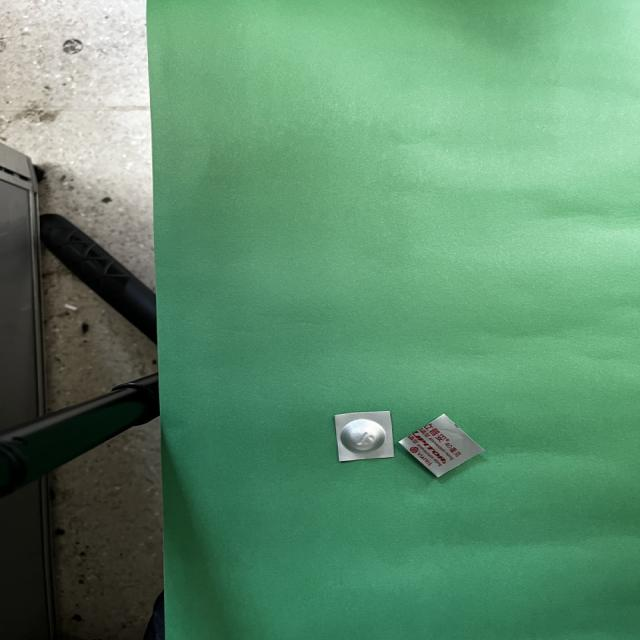Other Objects: (399, 414, 483, 477), (335, 411, 393, 462)
